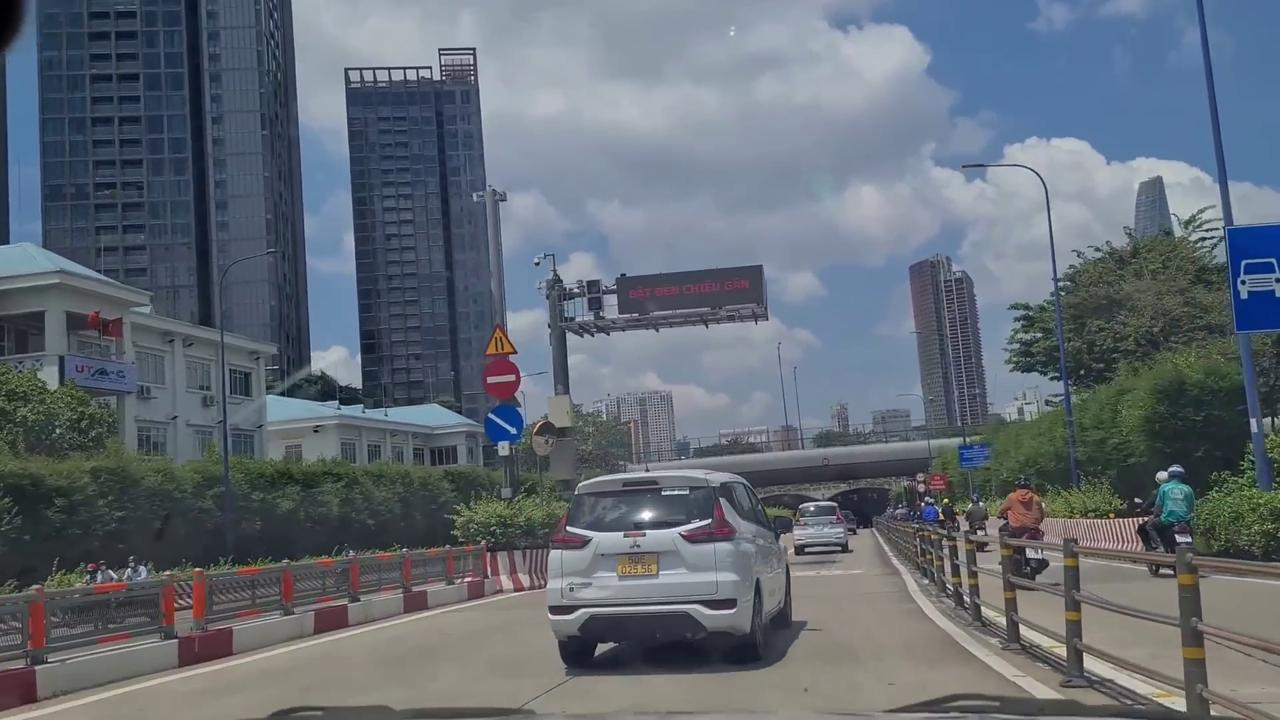Cấm đi ngược chiều: (481, 359, 524, 402)
Hướng phải đi vòng sang phải: (482, 404, 526, 444)
Đuờng hẹp: (482, 322, 519, 358)
